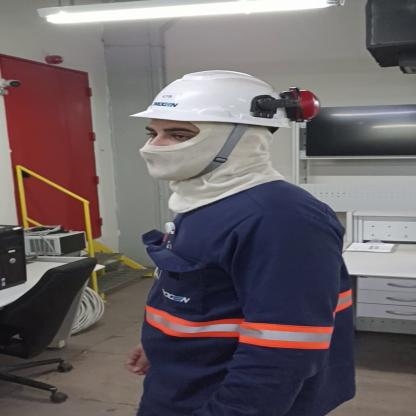Balaclava: (134, 121, 295, 196)
Capacete: (116, 68, 324, 131)
